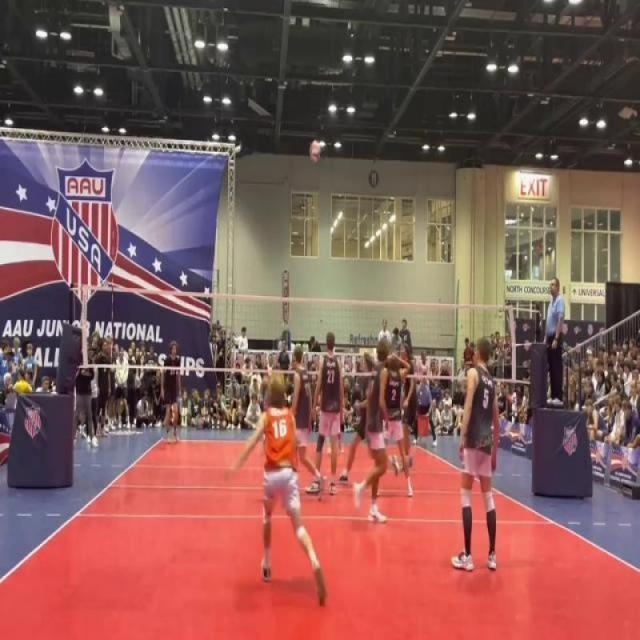volleyball: (310, 138, 322, 166)
